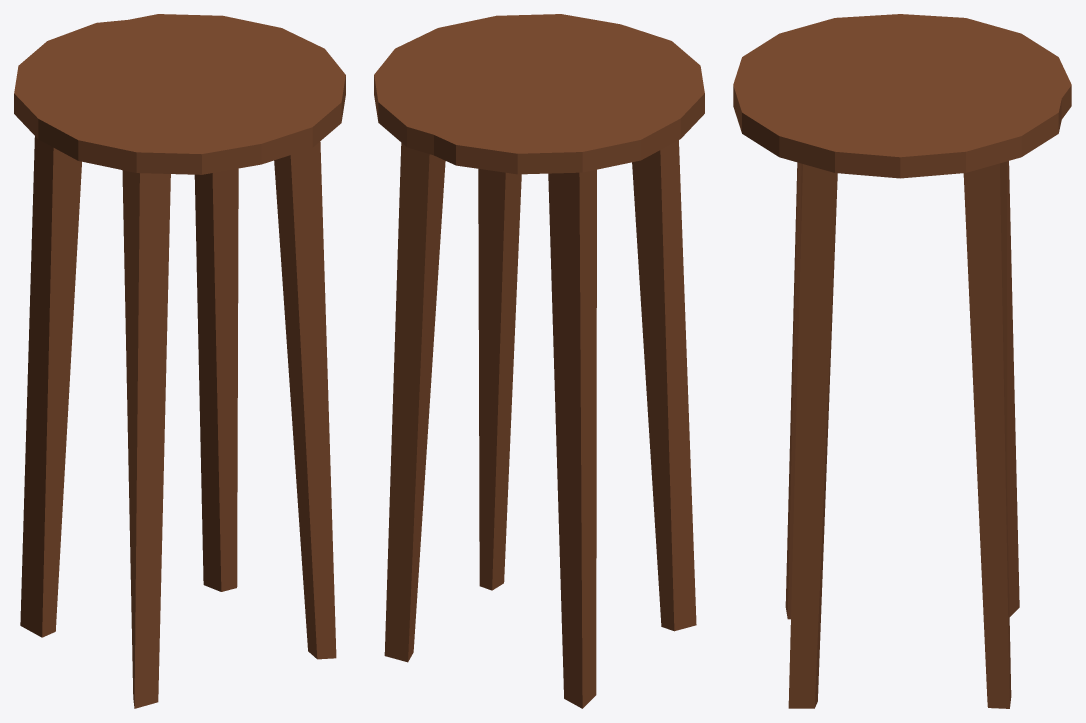
Rendered from chairwoodbarstool01.gltf.
3 renders of one model, left to right at view 1: azimuth 30°, elevation 25°; view 2: azimuth 150°, elevation 25°; view 3: azimuth 270°, elevation 25°, orthographic. The views are drawn at different scales.
Parts seen in each view (by area): view 1: Cube; view 2: Cube; view 3: Cube.
Part boxes in pixels (bbox=[...]): Cube: bbox=[14, 14, 345, 708]; Cube: bbox=[374, 14, 704, 708]; Cube: bbox=[733, 14, 1071, 708].
Size of the model in its own units: 0.349 by 0.651 by 0.3485.
1 material, 1 textured.
